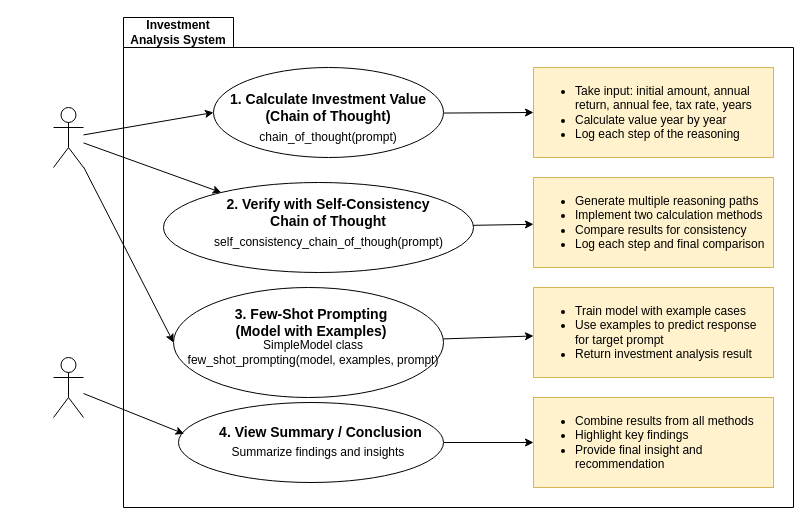
The diagram is 811 pixels wide and 525 high, and some of its shapes have lost their labels. The box of each missing label's shape, as (x1, y1, x2, y2) in pixels:
Asks investment value questions and views results: (52, 356, 84, 418)
Provides input, examples, configures parameters and reviews results: (52, 106, 84, 168)
